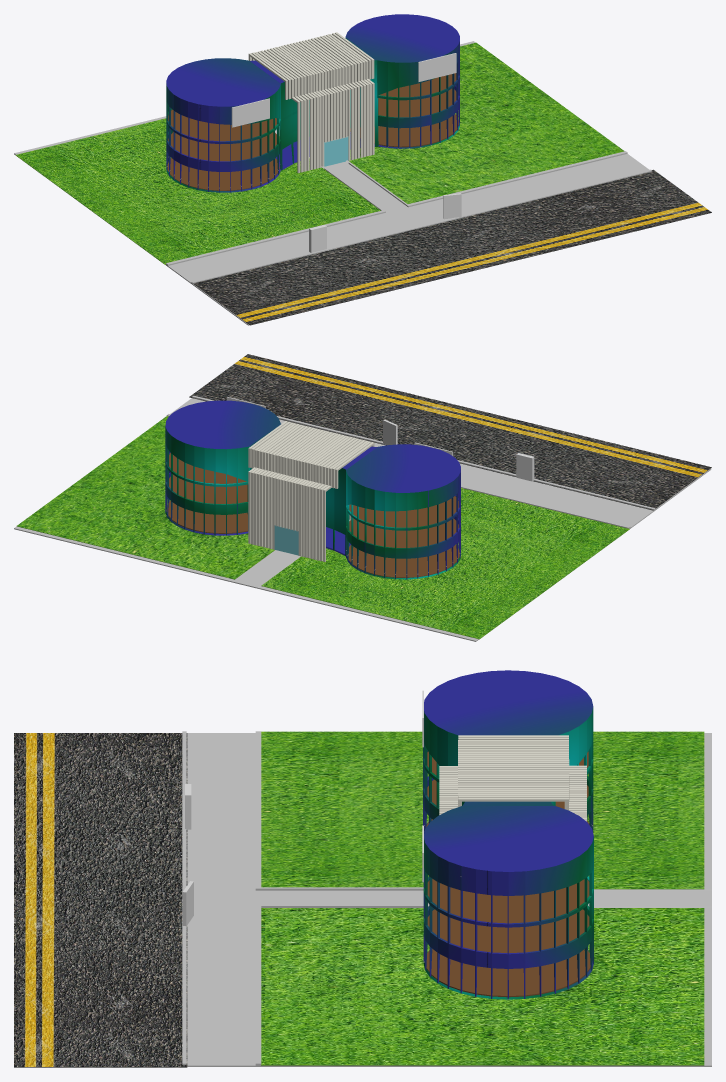
The model's file is fachada nueva.fbx.
3 renders of one model, top to bottom at view 1: azimuth 30°, elevation 25°; view 2: azimuth 150°, elevation 25°; view 3: azimuth 270°, elevation 25°, orthographic. The views are drawn at different scales.
Visible parts, largest first — view 1: monte.002, monte, monte.001, base, edificio 1, edificio 1.001, union edificios, piso..003, piso..001, piso., piso..007, piso..005 (+10 smaller); view 2: monte.002, monte, monte.001, edificio 1, edificio 1.001, base, piso..003, union edificios, piso..001, piso., piso..007, piso..005 (+17 smaller); view 3: monte.002, monte.001, monte, base, edificio 1.001, edificio 1, piso..007, piso..004, piso..005.
Part boxes in pixels (left/top/right/bottom): monte.002: left=193, top=169, right=711, bottom=325; monte: left=15, top=118, right=380, bottom=264; monte.001: left=349, top=42, right=624, bottom=203; base: left=14, top=41, right=652, bottom=325; edificio 1: left=166, top=58, right=280, bottom=192; edificio 1.001: left=345, top=14, right=459, bottom=148; union edificios: left=250, top=37, right=378, bottom=170; piso..003: left=167, top=158, right=279, bottom=190; piso..001: left=168, top=132, right=279, bottom=161; piso.: left=168, top=109, right=276, bottom=141; piso..007: left=350, top=114, right=458, bottom=147; piso..005: left=378, top=88, right=456, bottom=117; monte.002: left=189, top=354, right=711, bottom=510; monte: left=261, top=488, right=629, bottom=639; monte.001: left=17, top=416, right=274, bottom=579; edificio 1: left=346, top=444, right=460, bottom=579; edificio 1.001: left=165, top=400, right=280, bottom=535; base: left=14, top=395, right=711, bottom=641; piso..003: left=347, top=545, right=459, bottom=577; union edificios: left=250, top=423, right=376, bottom=555; piso..001: left=349, top=518, right=458, bottom=547; piso.: left=349, top=496, right=458, bottom=527; piso..007: left=166, top=501, right=247, bottom=533; piso..005: left=169, top=474, right=247, bottom=503; monte.002: left=14, top=733, right=187, bottom=1067; monte.001: left=261, top=908, right=704, bottom=1065; monte: left=261, top=731, right=704, bottom=889; base: left=182, top=731, right=711, bottom=1066; edificio 1.001: left=423, top=805, right=593, bottom=999; edificio 1: left=423, top=670, right=593, bottom=833; piso..007: left=426, top=949, right=590, bottom=997; piso..004: left=427, top=879, right=589, bottom=923; piso..005: left=427, top=909, right=589, bottom=952.
Bounding box in the file's own units: 137 × 25.51 × 120.
